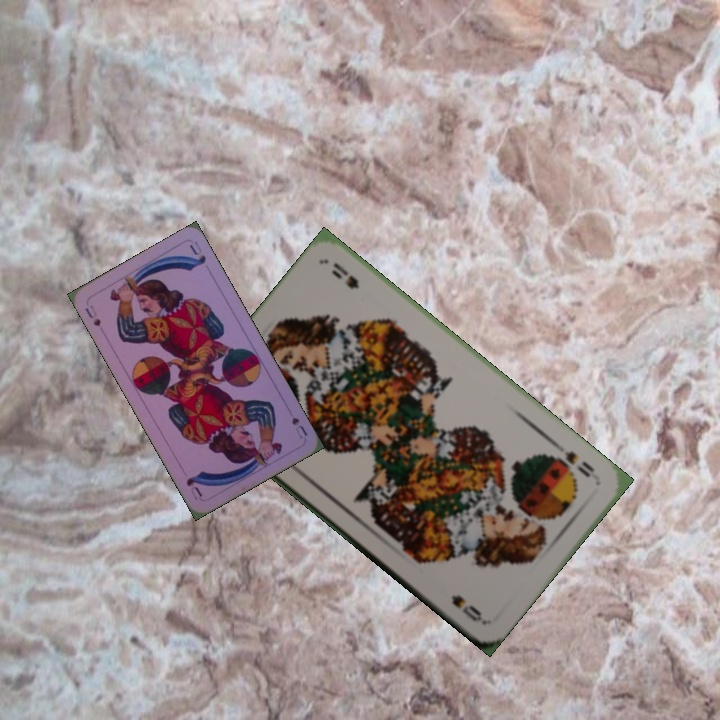SO: (560, 447, 597, 480)
SU: (287, 413, 310, 441), (81, 301, 103, 329)
